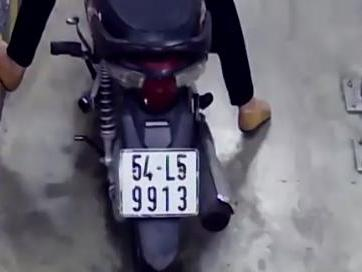num_plate: (119, 148, 199, 217)
